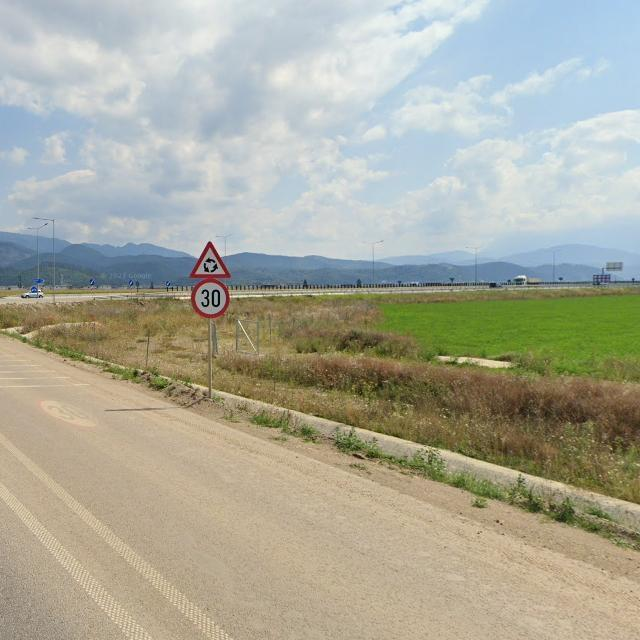forb_speed_over_30: (192, 281, 231, 319)
